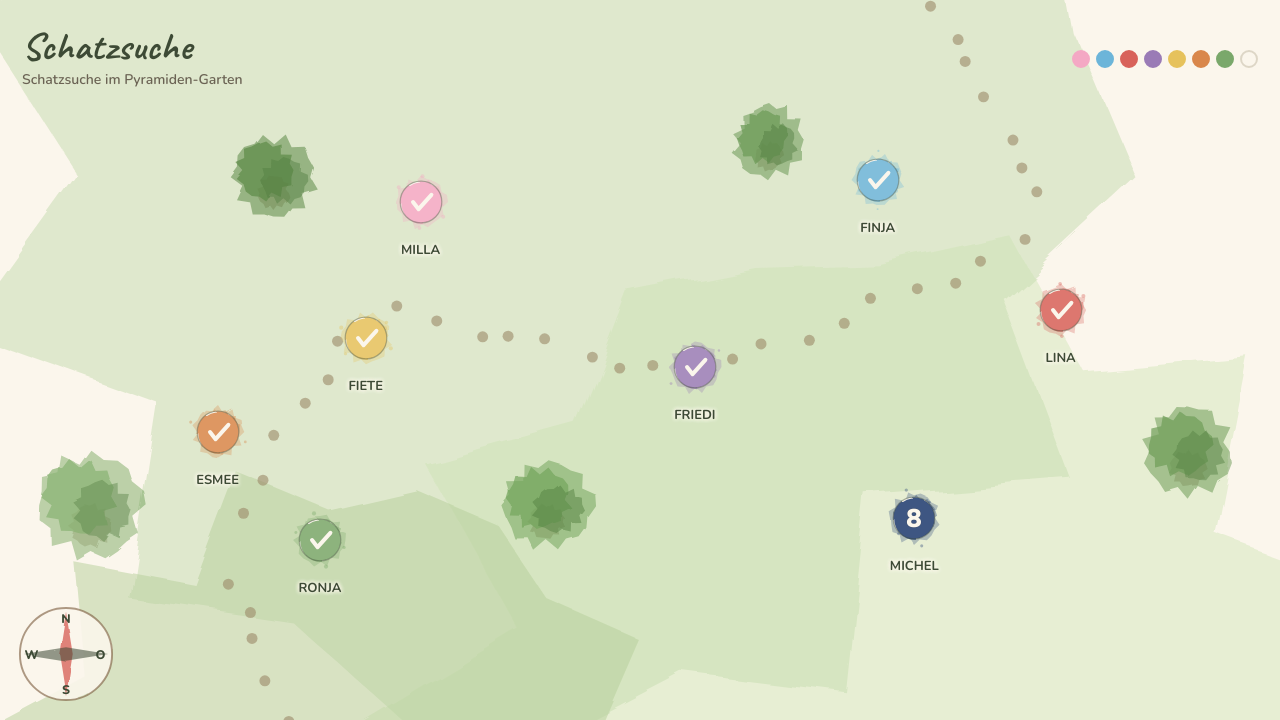
Test case: App › switches to TreasureScreen after solving the eighth (final) station from the map
The width and height of the screenshot is (1280, 720).
Click the button with test id "station-marker-8".
click(914, 518)  # box left=874, top=478, right=954, bottom=558
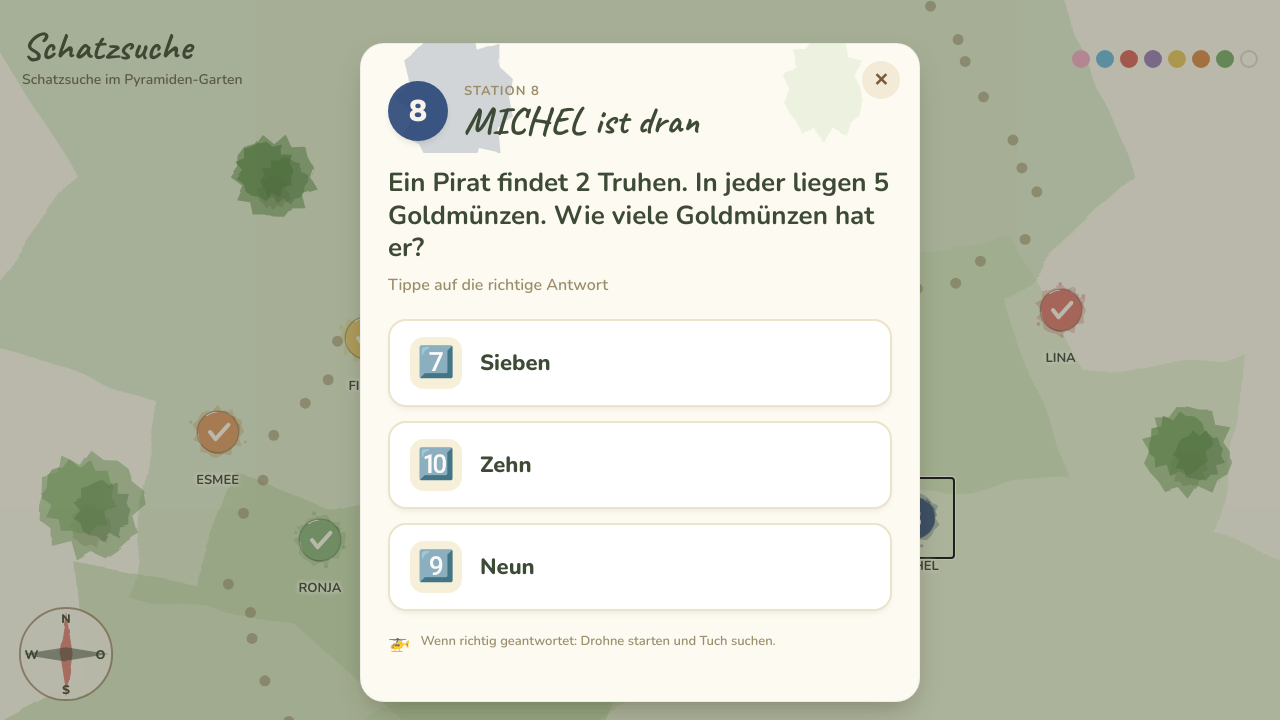
Click the button "🔟 Zehn".
click(436, 465)  # box left=388, top=421, right=892, bottom=509
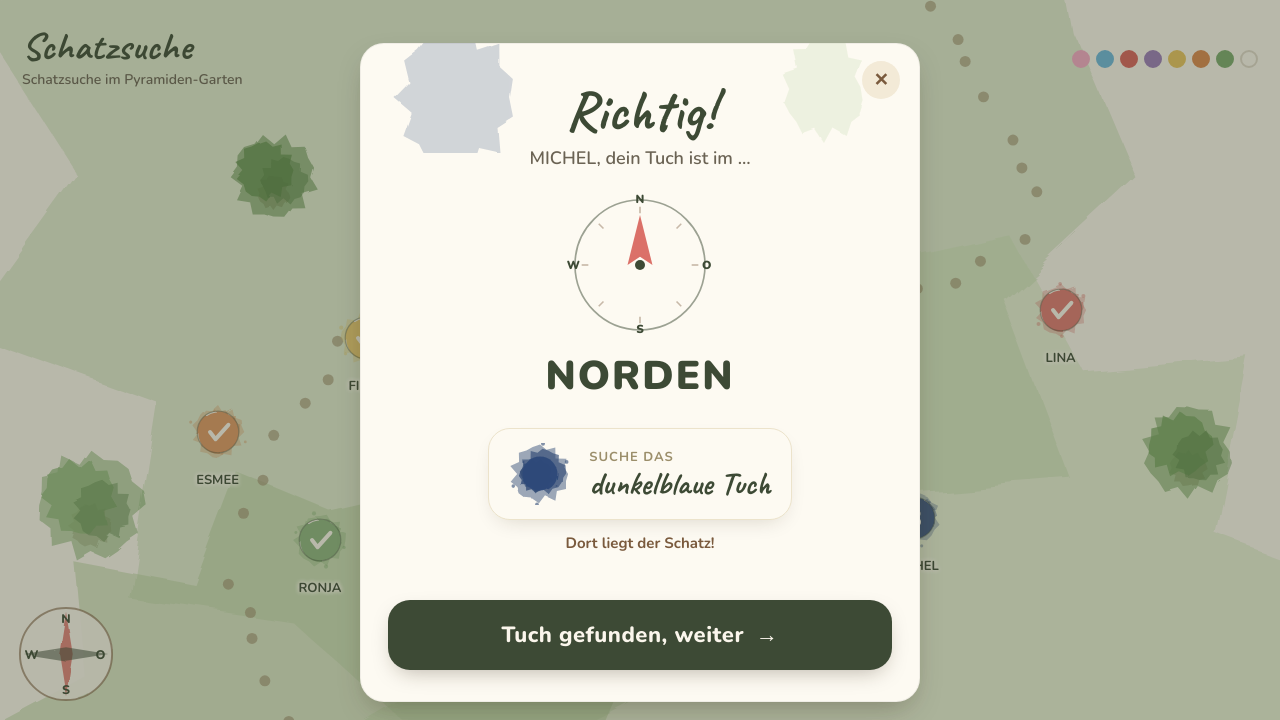
Click the button "Tuch gefunden, weiter →".
click(640, 635)  # box left=388, top=600, right=892, bottom=670
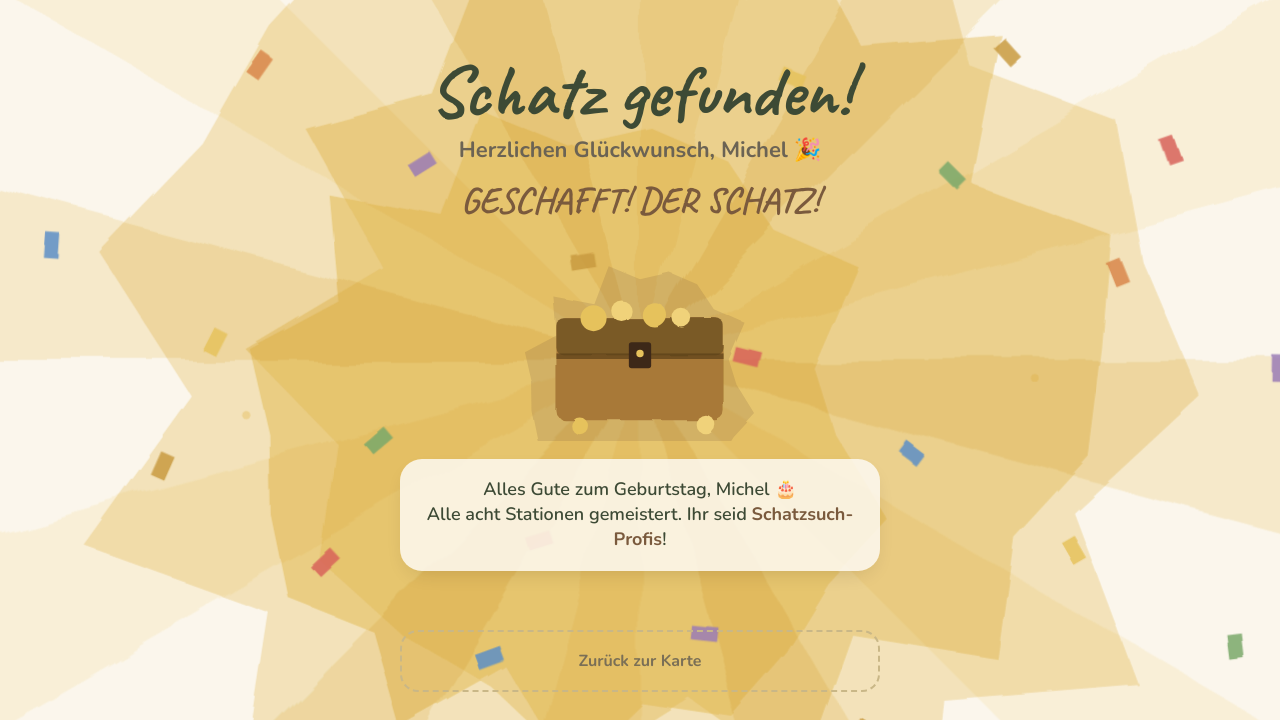
Expected: the heading "GESCHAFFT! DER SCHATZ!" is shown, left=461, top=173, right=819, bottom=227
Expected: the element with test id "map-screen" is gone
